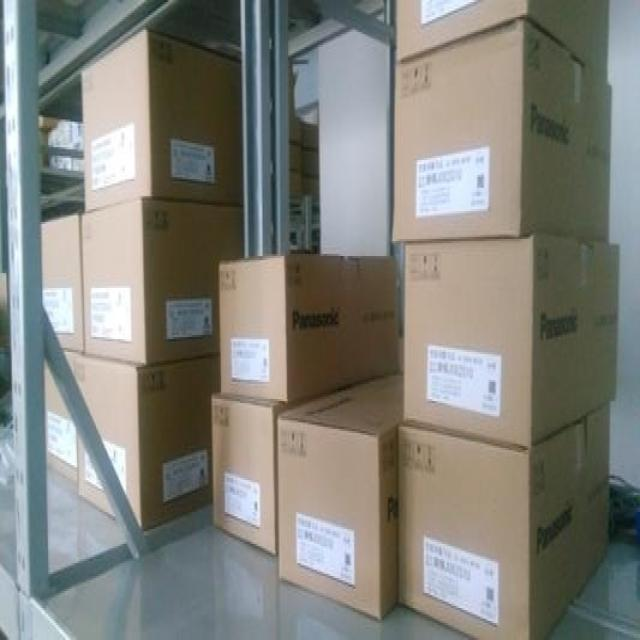box: (399, 401, 611, 640), (391, 19, 611, 245), (403, 235, 618, 448), (280, 373, 405, 621), (80, 28, 239, 213), (79, 196, 244, 363), (76, 352, 221, 531), (220, 256, 399, 401), (397, 2, 610, 81), (211, 397, 281, 553), (40, 213, 84, 352), (42, 358, 77, 486), (77, 429, 118, 523)
